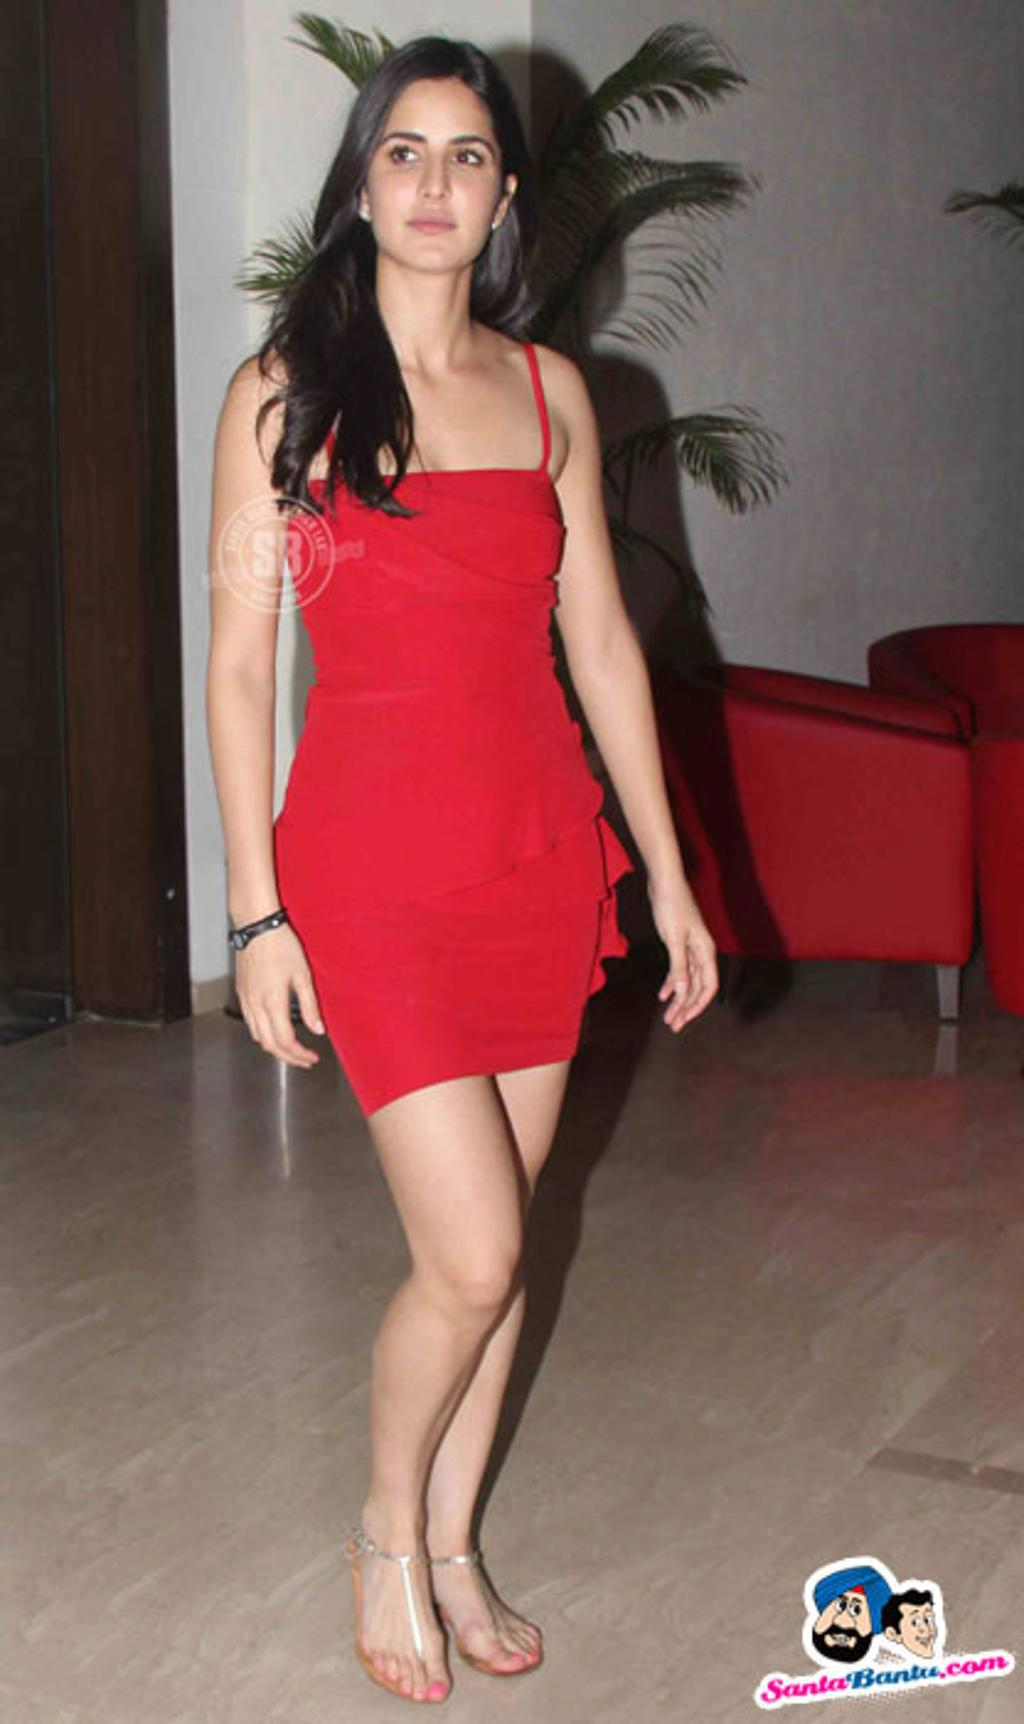face: (372, 82, 500, 274)
